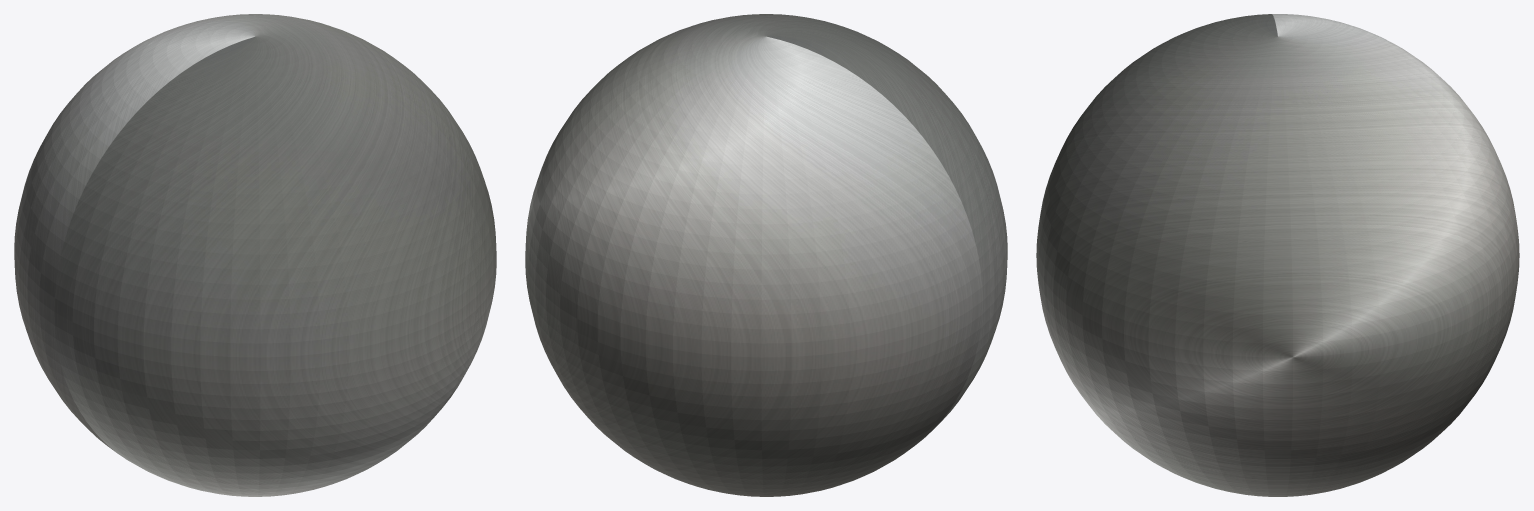
The model's file is ball.obj.
The picture shows the model from 3 angles, left to right: view 1: azimuth 30°, elevation 25°; view 2: azimuth 150°, elevation 25°; view 3: azimuth 270°, elevation 25°; orthographic projection.
Parts seen in each view (by area): view 1: Sphere; view 2: Sphere; view 3: Sphere.
Boxes of the visible parts, bbox=[...] form: Sphere: bbox=[14, 14, 496, 496]; Sphere: bbox=[525, 14, 1007, 496]; Sphere: bbox=[1036, 14, 1519, 496].
Size of the model in its own units: 2 by 2 by 2.
